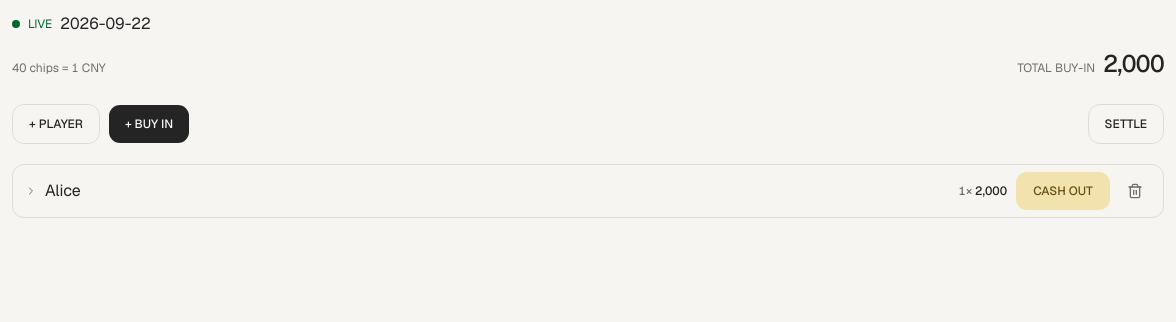
Test: refreshes after revocation and keeps recoverable errors in the page
Click the button with aria-label "Alice buy-in history": (63, 190) [25,171,1007,211]
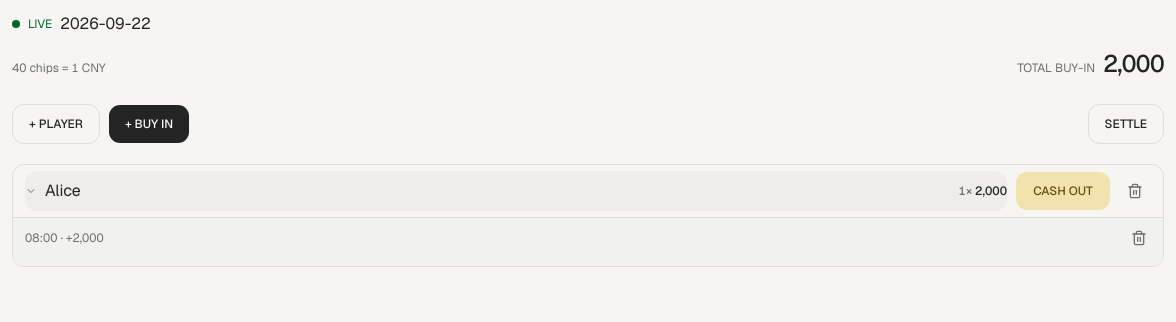
Click the button named "Revoke Alice buy-in": (1139, 238) [1127,226,1151,250]
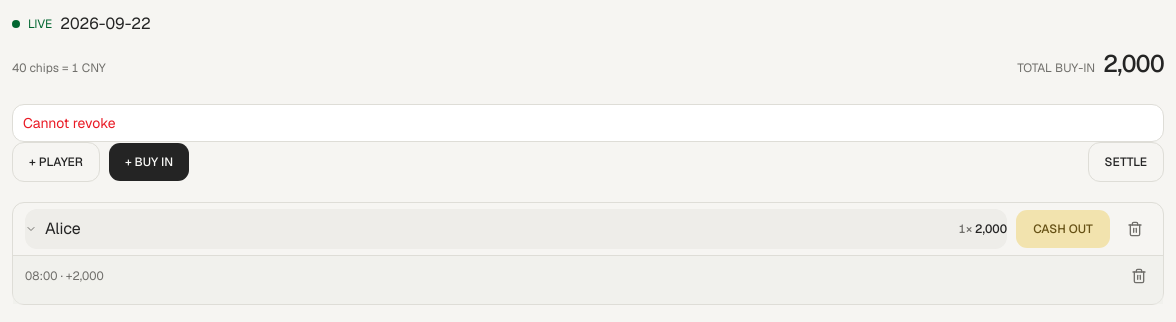
Result: the text "Cannot revoke" is shown at [23,114,116,132]
Click the button named "Revoke Alice buy-in": (1139, 276) [1127,264,1151,288]
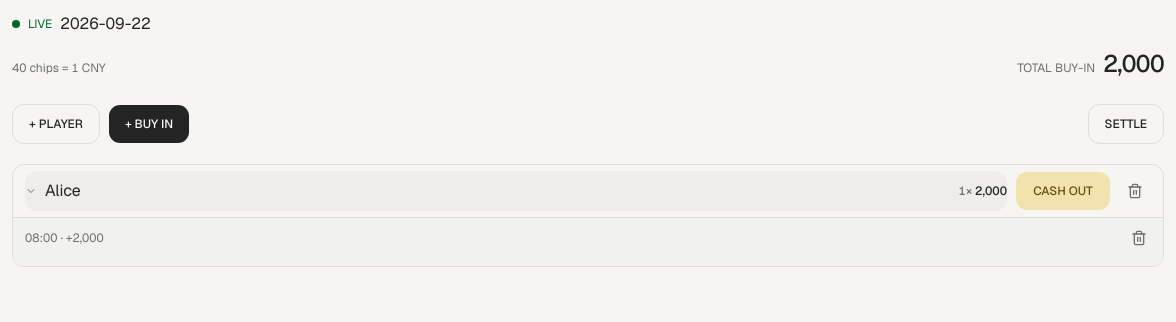
Result: the text "Cannot revoke" is gone
